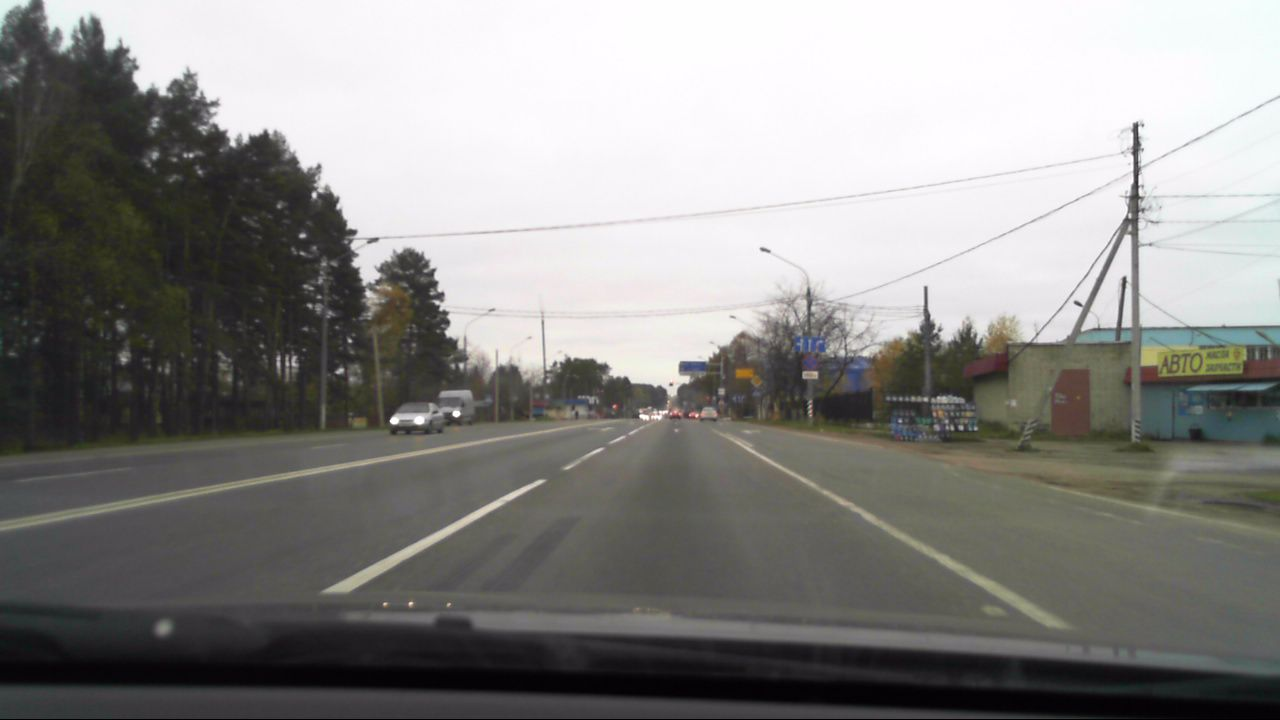No Parking: (801, 354, 817, 370)
